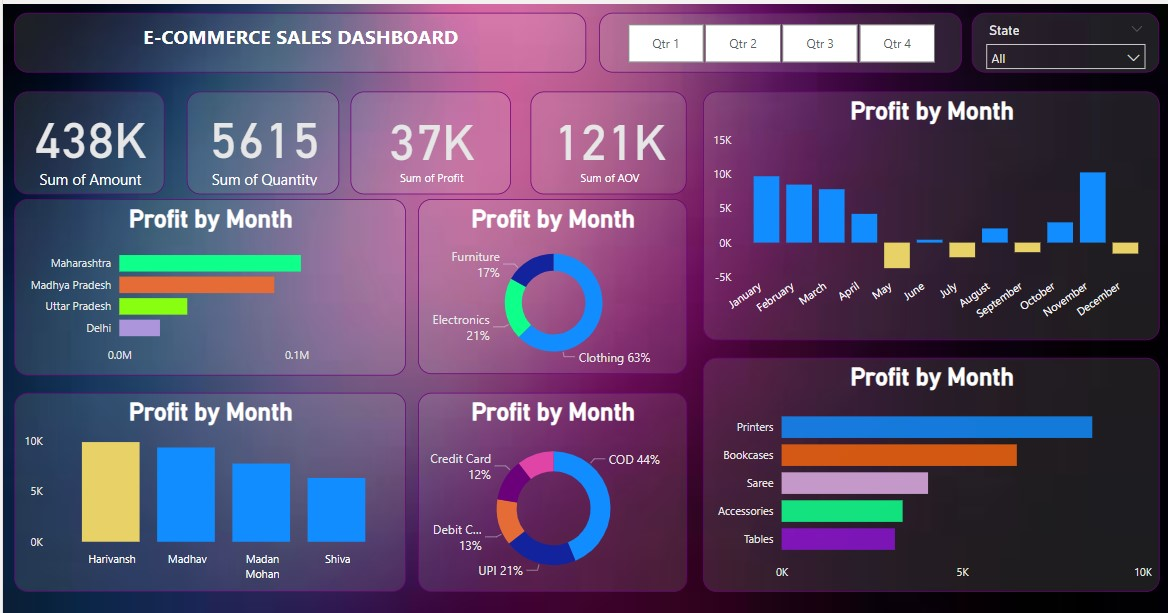

The page's visual inventory and layout, read from the dashboard file:
{"tool":"powerbi","page":{"name":"Page 1","canvas":[1280,720],"ordinal":0},"visuals":[{"type":"textbox","box":[12.3,59,627.1,65.9],"z":0},{"type":"donutChart","title":"Profit by Month","fields":{"Category":["Details.Category"],"Y":["Details.Quantity"]},"box":[455.6,263.5,295,192.1],"z":1000},{"type":"columnChart","title":"Profit by Month","fields":{"Category":["Orders.Order Date.Variation.Date Hierarchy.Month"],"Y":["Details.Profit"]},"box":[767.1,145.5,500.9,273.1],"z":2000},{"type":"barChart","title":"Profit by Month","fields":{"Category":["Details.Sub-Category"],"Y":["Details.Profit"]},"box":[767.1,437.7,500.9,256.6],"z":3000},{"type":"donutChart","title":"Profit by Month","fields":{"Y":["Details.Quantity"],"Category":["Details.PaymentMode"]},"box":[455.6,476.2,295,218.2],"z":4000},{"type":"card","fields":{"Values":["Details.Amount"]},"box":[12.3,145.5,164.7,112.5],"z":5000},{"type":"card","fields":{"Values":["Details.Profit"]},"box":[381.5,145.5,175.6,112.5],"z":6000},{"type":"card","fields":{"Values":["Details.AOV"]},"box":[579.1,145.5,171.5,112.5],"z":7000},{"type":"card","fields":{"Values":["Details.Quantity"]},"box":[201.7,145.5,167.4,112.5],"z":8000},{"type":"barChart","title":"Profit by Month","fields":{"Category":["Orders.State"],"Y":["Details.Amount"]},"box":[12.3,263.5,429.5,193.5],"z":9000},{"type":"columnChart","title":"Profit by Month","fields":{"Category":["Orders.CustomerName"],"Y":["Details.Amount"]},"box":[12.3,476.2,429.5,218.2],"z":10000},{"type":"slicer","fields":{"Values":["Orders.Order Date.Variation.Date Hierarchy.Quarter"]},"box":[653.2,59,397.9,65.9],"z":11000},{"type":"slicer","fields":{"Values":["Orders.State"]},"box":[1062.1,59,205.8,65.9],"z":12000}]}

Visuals, with their boxes on the page's 1280x720 design canvas (x1, y1, x2, y2). These are canvas units, not pixel positions in the 1168x613 screenshot, which may show the page scaled, cropped or inside an application window:
textbox: <bbox>12, 59, 639, 125</bbox>
"Profit by Month" donutChart: <bbox>456, 264, 751, 456</bbox>
"Profit by Month" columnChart: <bbox>767, 146, 1268, 419</bbox>
"Profit by Month" barChart: <bbox>767, 438, 1268, 694</bbox>
"Profit by Month" donutChart: <bbox>456, 476, 751, 694</bbox>
card - Details.Amount: <bbox>12, 146, 177, 258</bbox>
card - Details.Profit: <bbox>382, 146, 557, 258</bbox>
card - Details.AOV: <bbox>579, 146, 751, 258</bbox>
card - Details.Quantity: <bbox>202, 146, 369, 258</bbox>
"Profit by Month" barChart: <bbox>12, 264, 442, 457</bbox>
"Profit by Month" columnChart: <bbox>12, 476, 442, 694</bbox>
slicer - Orders.Order Date.Variation.Date Hierarchy.Quarter: <bbox>653, 59, 1051, 125</bbox>
slicer - Orders.State: <bbox>1062, 59, 1268, 125</bbox>
